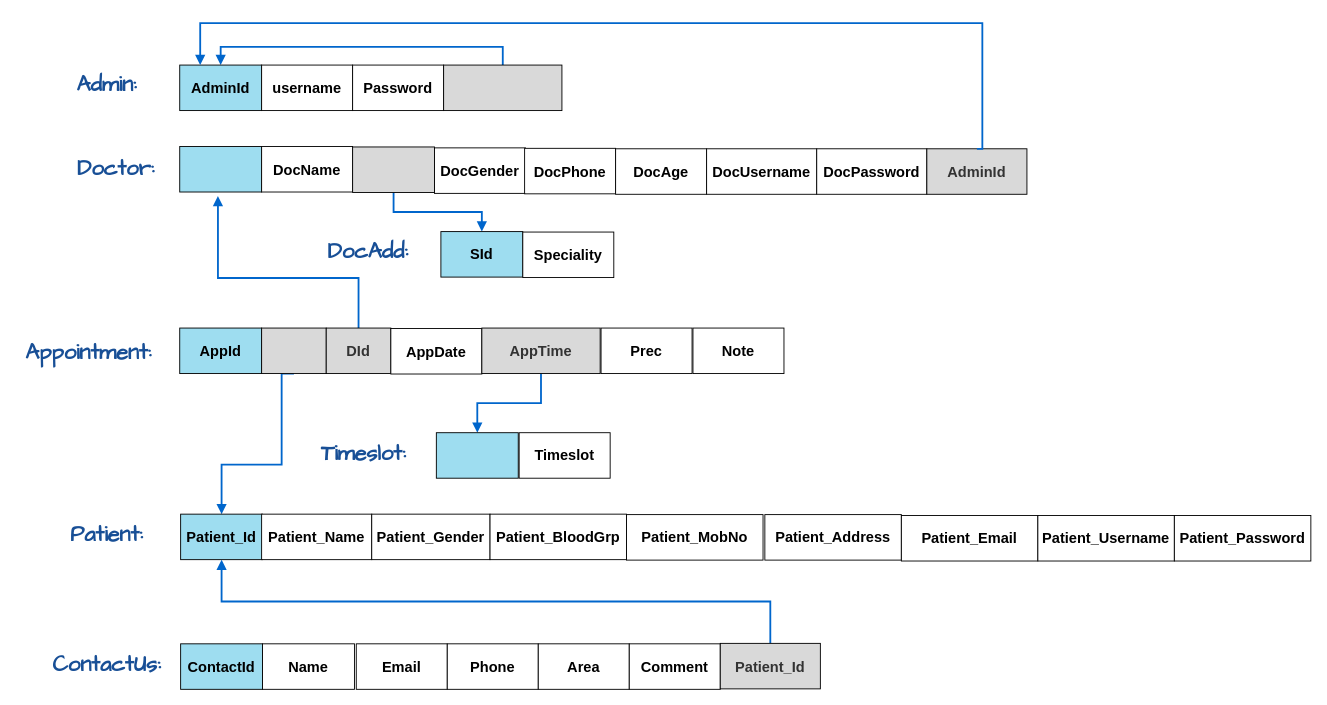
Some shapes in this 1327 by 705 pixel diagram are drawn without their labels. Each missing label, with the centre of its shape:
Admin_AdminId: the point at 502,87
DocId: the point at 220,169
DocType: the point at 393,169
PId: the point at 293,350
TId: the point at 476,455
